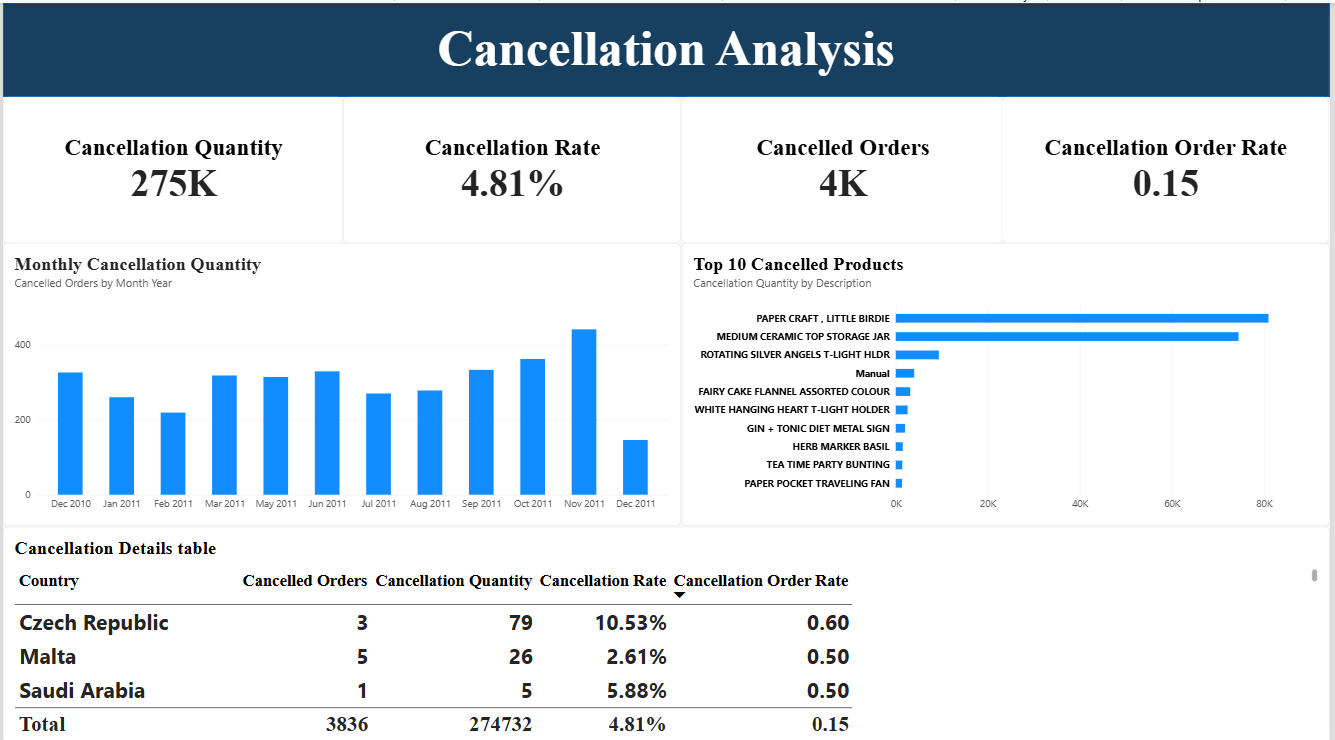

Layout of this report page (visuals, bound fields, positions):
{"tool":"powerbi","page":{"name":"Cancellation Analysis","canvas":[1920,1080],"ordinal":4},"visuals":[{"type":"shape","box":[0,0,1920.4,135.8],"z":0},{"type":"cardVisual","fields":{"Data":["DateTable.Cancellation Quantity"]},"box":[0,135.8,492,212],"z":0,"group":"g1"},{"type":"cardVisual","fields":{"Data":["DateTable.Cancellation Order Rate"]},"box":[1446.6,135.8,473.5,212],"z":0,"group":"g5"},{"type":"cardVisual","fields":{"Data":["DateTable.Cancellation Rate"]},"box":[491.9,136.1,489.9,212],"z":0,"group":"g3"},{"type":"cardVisual","fields":{"Data":["DateTable.Cancelled Orders"]},"box":[981.8,136.1,465.2,212],"z":0,"group":"g4"},{"type":"textbox","box":[0,22.6,1920.4,113.2],"z":1000},{"type":"group","id":"g1","title":"Group 1","box":[0,135.8,491.9,212],"z":2000,"group":"g2"},{"type":"group","id":"g2","title":"Group 2","box":[0,135.8,1920,212.3],"z":2000},{"type":"group","id":"g3","title":"Group 1","box":[491.9,136.1,489.9,212],"z":3000,"group":"g2"},{"type":"clusteredColumnChart","title":"Monthly Cancellation Quantity","fields":{"Category":["DateTable.Month Year"],"Y":["DateTable.Cancelled Orders"]},"box":[0,347.9,981.8,409.6],"z":3000},{"type":"group","id":"g4","title":"Group 1","box":[981.8,136.1,465.2,212],"z":4000,"group":"g2"},{"type":"clusteredBarChart","title":"Top 10 Cancelled Products","fields":{"Category":["EcommerceData.Description"],"Y":["DateTable.Cancellation Quantity"]},"box":[981.8,347.9,938.6,409.6],"z":4000},{"type":"group","id":"g5","title":"Group 1","box":[1446.6,135.8,473.4,212],"z":5000,"group":"g2"},{"type":"tableEx","title":"Cancellation Details table","fields":{"Values":["EcommerceData.Country","DateTable.Cancelled Orders","DateTable.Cancellation Quantity","DateTable.Cancellation Rate","DateTable.Cancellation Order Rate"]},"box":[0,757.5,1920.4,323.2],"z":5000}]}

Visuals, with their boxes in screenshot pixels (x1, y1, x2, y2), scaled from the page's 1920x1080 canvas onto the 1335x740 screenshot:
shape: crop(0, 0, 1334, 93)
cardVisual - DateTable.Cancellation Quantity: crop(0, 93, 342, 238)
cardVisual - DateTable.Cancellation Order Rate: crop(1006, 93, 1334, 238)
cardVisual - DateTable.Cancellation Rate: crop(342, 93, 683, 239)
cardVisual - DateTable.Cancelled Orders: crop(683, 93, 1006, 239)
textbox: crop(0, 15, 1334, 93)
"Group 1" group: crop(0, 93, 342, 238)
"Group 2" group: crop(0, 93, 1334, 239)
"Group 1" group: crop(342, 93, 683, 239)
"Monthly Cancellation Quantity" clusteredColumnChart: crop(0, 238, 683, 519)
"Group 1" group: crop(683, 93, 1006, 239)
"Top 10 Cancelled Products" clusteredBarChart: crop(683, 238, 1334, 519)
"Group 1" group: crop(1006, 93, 1334, 238)
"Cancellation Details table" tableEx: crop(0, 519, 1334, 739)
